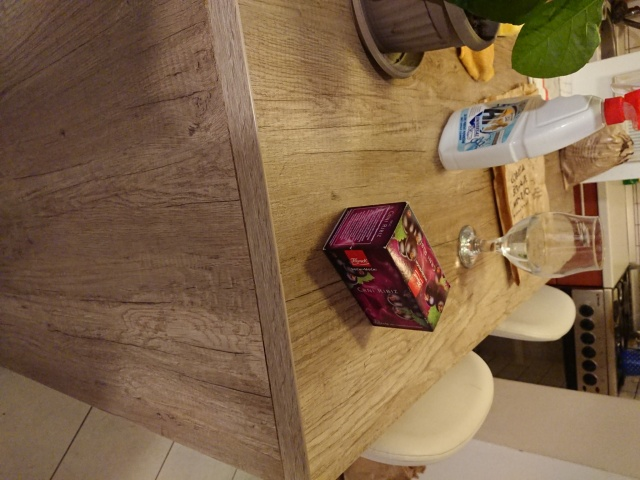Franck Black Currant Tea 60g: (320, 199, 452, 334)
